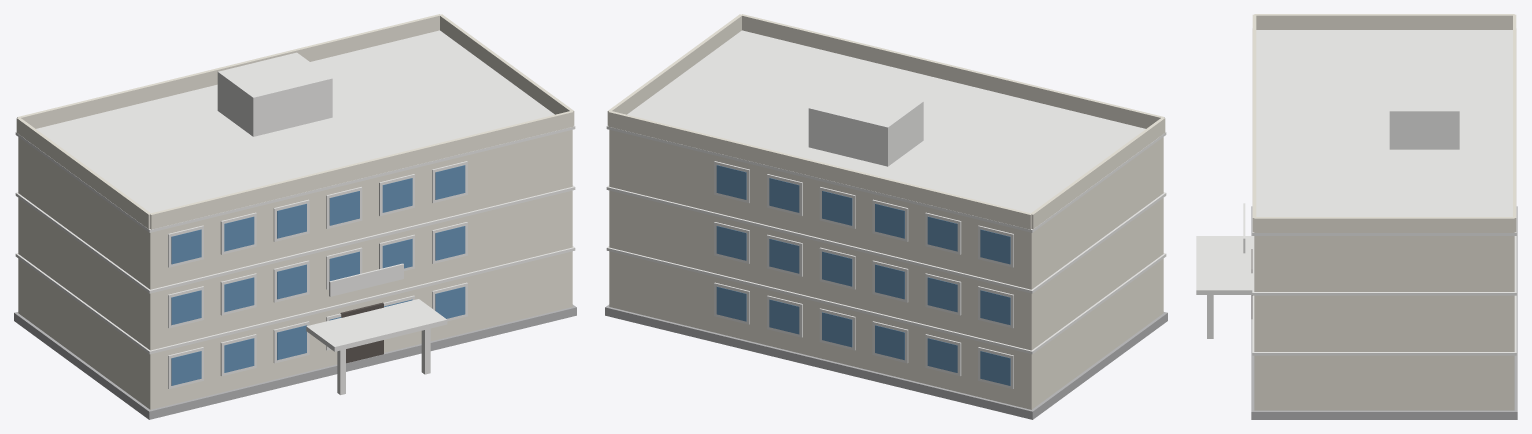
Rendered from admin.glb.
The picture shows the model from 3 angles, left to right: view 1: azimuth 30°, elevation 25°; view 2: azimuth 150°, elevation 25°; view 3: azimuth 270°, elevation 25°; orthographic projection.
Visible parts, largest first — view 1: p1, p5, p83, p85, p84, p2, p78, p4, p3, p86, p87, p82 (+17 smaller); view 2: p1, p5, p83, p84, p85, p2, p4, p3, p86, p87, p15, p11 (+16 smaller); view 3: p1, p5, p83, p87, p86, p2, p78, p3, p4, p85, p84, p80.
Part boxes in pixels (x1,y1,x2,y2): p1: (18, 130, 572, 409); p5: (15, 30, 575, 232); p83: (217, 52, 332, 136); p85: (150, 111, 573, 229); p84: (17, 14, 440, 128); p2: (14, 304, 576, 419); p78: (306, 299, 447, 351); p4: (15, 185, 575, 293); p3: (15, 246, 575, 354); p86: (16, 118, 150, 229); p87: (440, 14, 574, 125); p82: (329, 263, 403, 296); p1: (609, 130, 1163, 409); p5: (606, 30, 1166, 232); p83: (808, 82, 923, 166); p84: (608, 110, 1031, 229); p85: (741, 14, 1164, 128); p2: (605, 304, 1167, 419); p4: (606, 185, 1166, 293); p3: (606, 246, 1166, 354); p86: (1030, 118, 1165, 229); p87: (607, 14, 741, 125); p15: (980, 229, 1010, 264); p11: (980, 290, 1010, 325); p1: (1254, 236, 1514, 410); p5: (1252, 28, 1516, 235); p83: (1389, 73, 1459, 149); p87: (1254, 217, 1514, 232); p86: (1254, 14, 1514, 29); p2: (1251, 206, 1517, 419); p78: (1196, 236, 1252, 294); p3: (1252, 295, 1516, 355); p4: (1252, 236, 1516, 295); p85: (1252, 14, 1256, 232); p84: (1513, 14, 1516, 232); p80: (1207, 295, 1213, 338).
Bounding box in the file's own units: 24.3 × 12.4 × 16.05.
